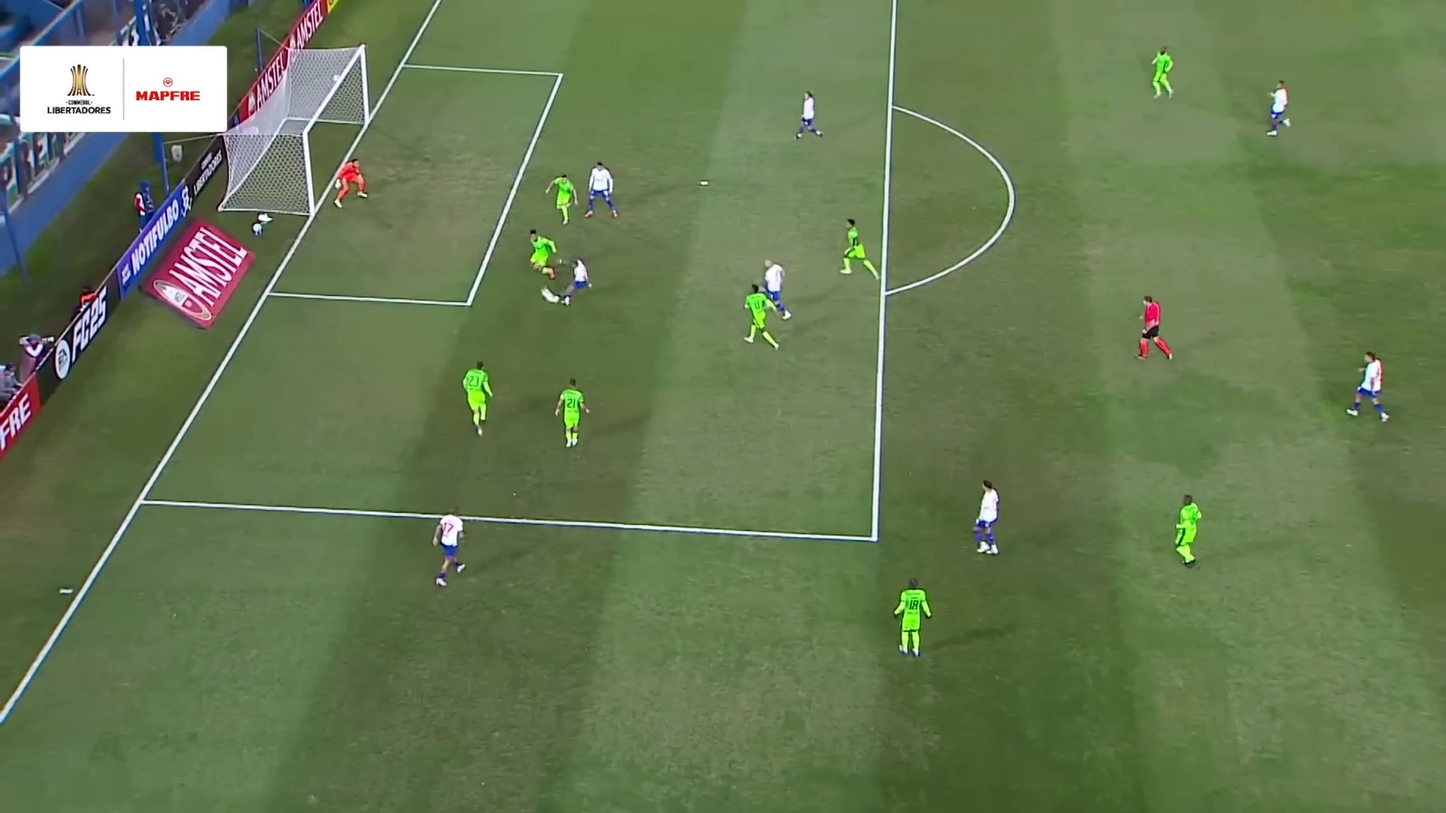ball: (537, 284, 556, 303)
player: (889, 578, 936, 660), (1343, 350, 1393, 425), (428, 508, 472, 588), (551, 377, 592, 451), (968, 479, 1006, 558), (458, 360, 496, 438), (1169, 492, 1206, 570), (836, 217, 880, 280), (740, 283, 779, 351), (583, 160, 621, 221), (761, 259, 794, 322), (544, 172, 581, 227), (557, 256, 595, 307), (333, 157, 370, 207), (1263, 79, 1294, 138), (792, 90, 826, 143), (526, 229, 561, 279), (1148, 47, 1177, 100)
referee: (1132, 295, 1175, 364)
